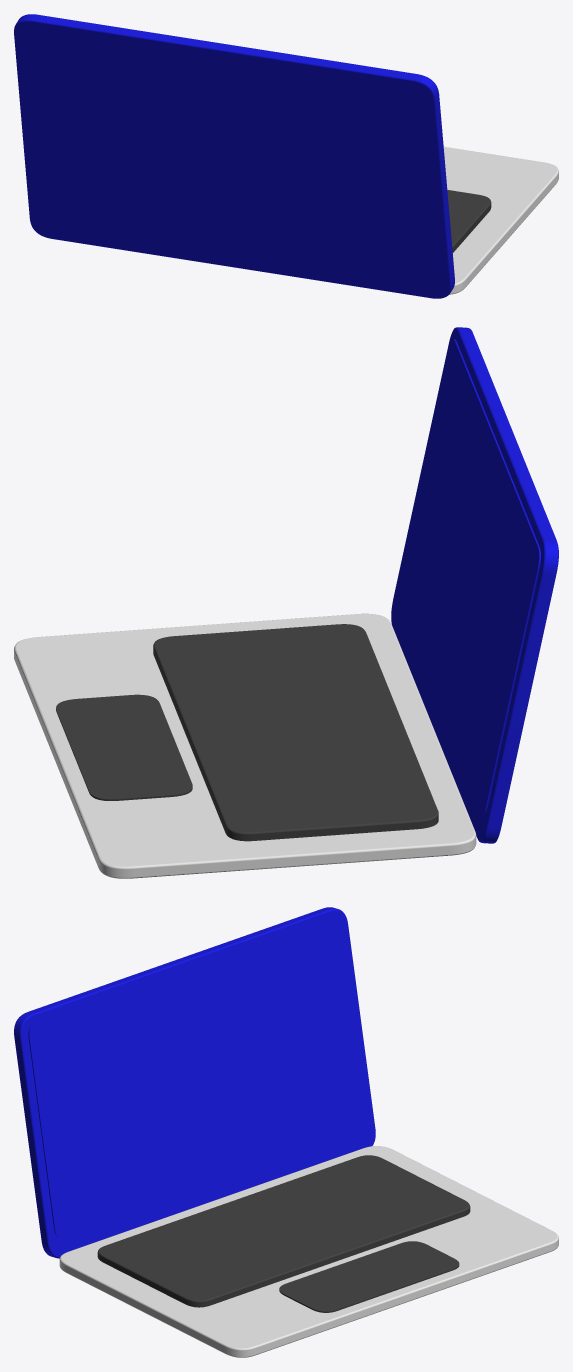
File: laptop.glb
The picture shows the model from 3 angles, top to bottom: view 1: azimuth 30°, elevation 25°; view 2: azimuth 150°, elevation 25°; view 3: azimuth 270°, elevation 25°; orthographic projection. The views are drawn at different scales.
Parts seen in each view (by area): view 1: Rectangle; view 2: Rectangle; view 3: Rectangle.
Part boxes in pixels (left/top/right/bottom): Rectangle: left=14, top=14, right=558, bottom=298; Rectangle: left=14, top=327, right=558, bottom=878; Rectangle: left=14, top=907, right=558, bottom=1357.
Size of the model in its own units: 1.54 by 0.7281 by 1.56.
